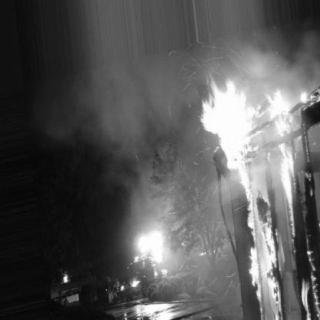Fire: (238, 174, 288, 316), (265, 89, 307, 204)
other: (58, 271, 74, 283)
